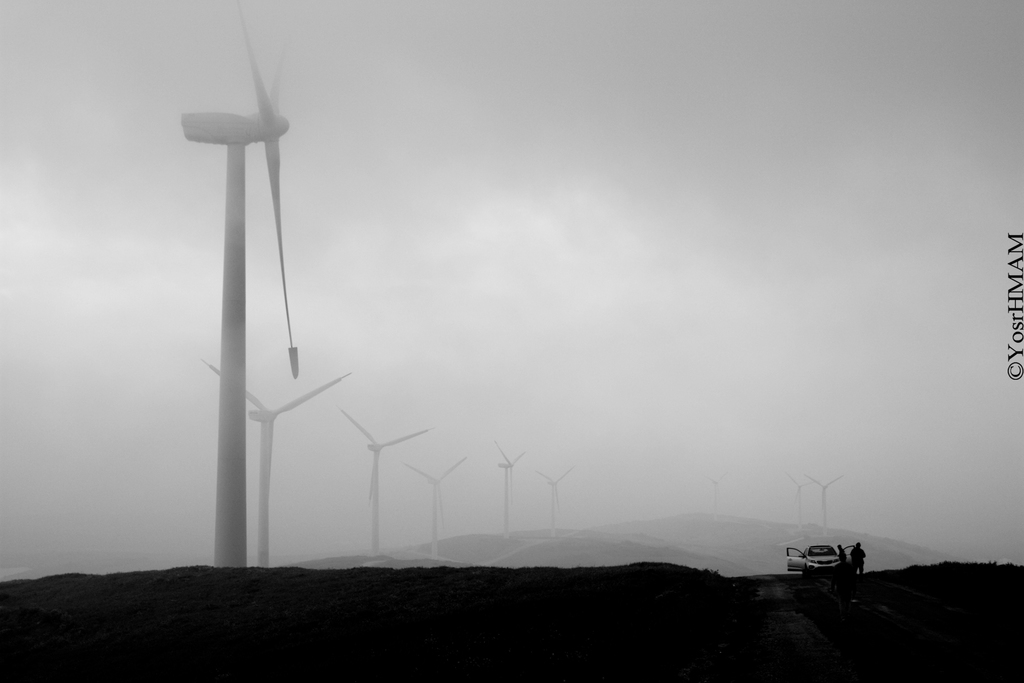Car: (787, 543, 878, 601)
